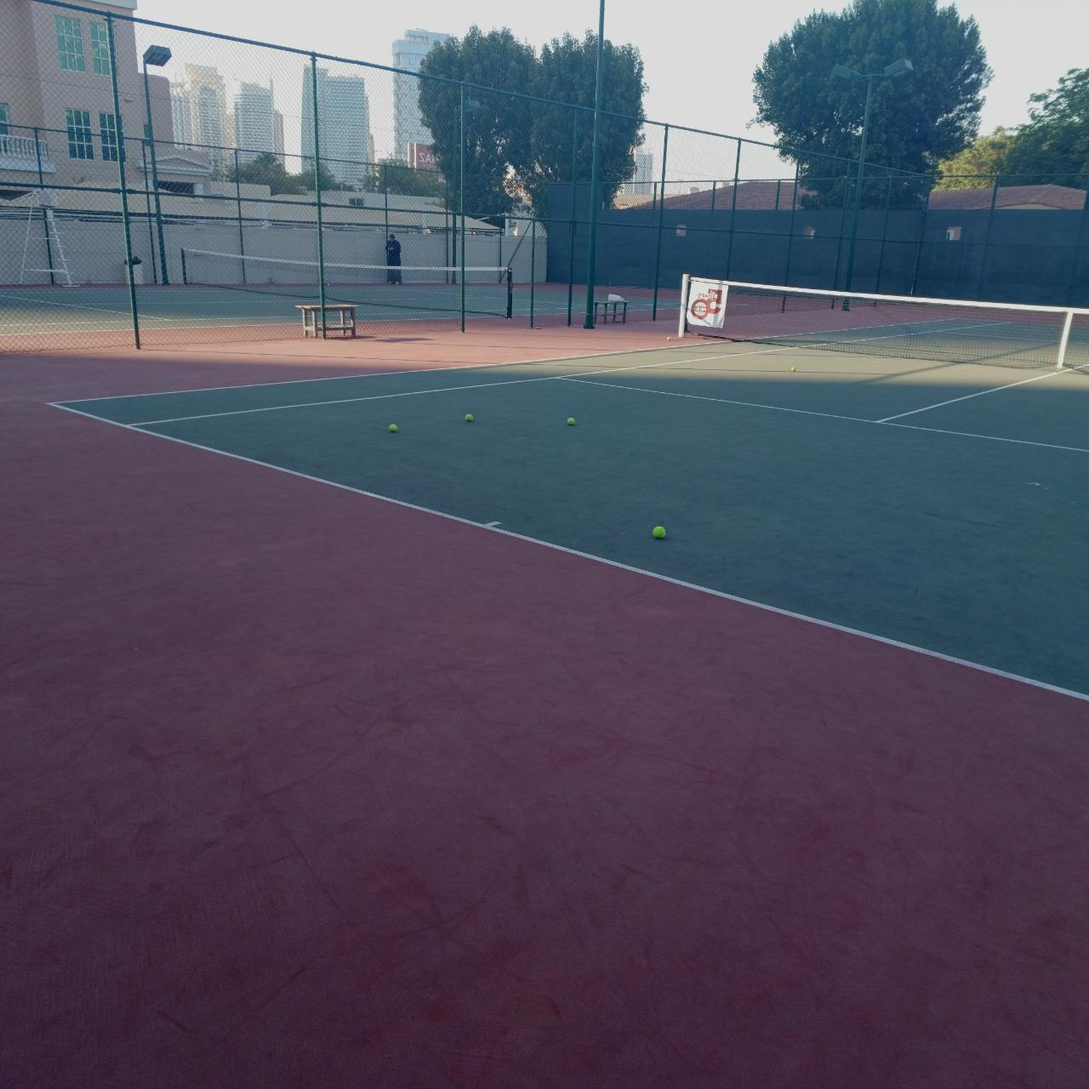tennis-ball: (653, 522, 668, 539), (567, 413, 579, 425), (388, 421, 400, 433), (464, 411, 476, 423), (791, 367, 797, 372), (667, 337, 671, 341)
